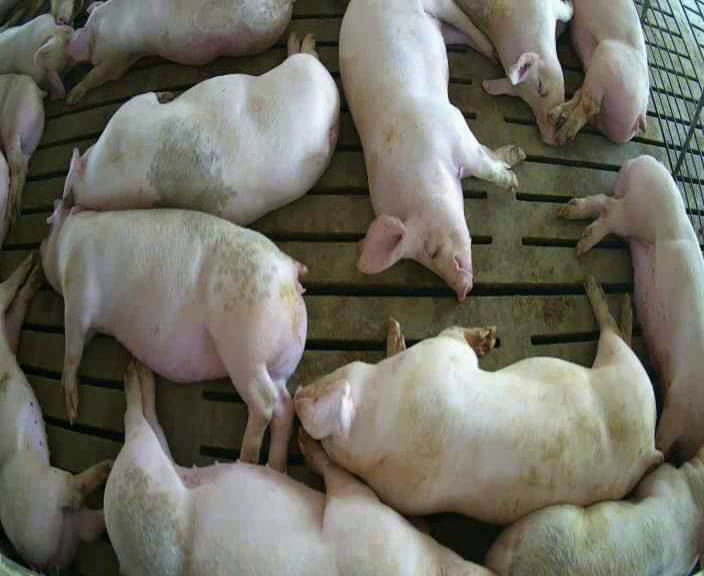pig: (295, 276, 660, 521), (104, 363, 489, 573), (41, 200, 306, 470), (340, 2, 523, 300), (63, 34, 338, 224), (559, 156, 703, 460), (487, 447, 703, 574), (67, 1, 291, 102), (458, 1, 572, 144), (552, 2, 648, 143), (0, 14, 74, 99)
